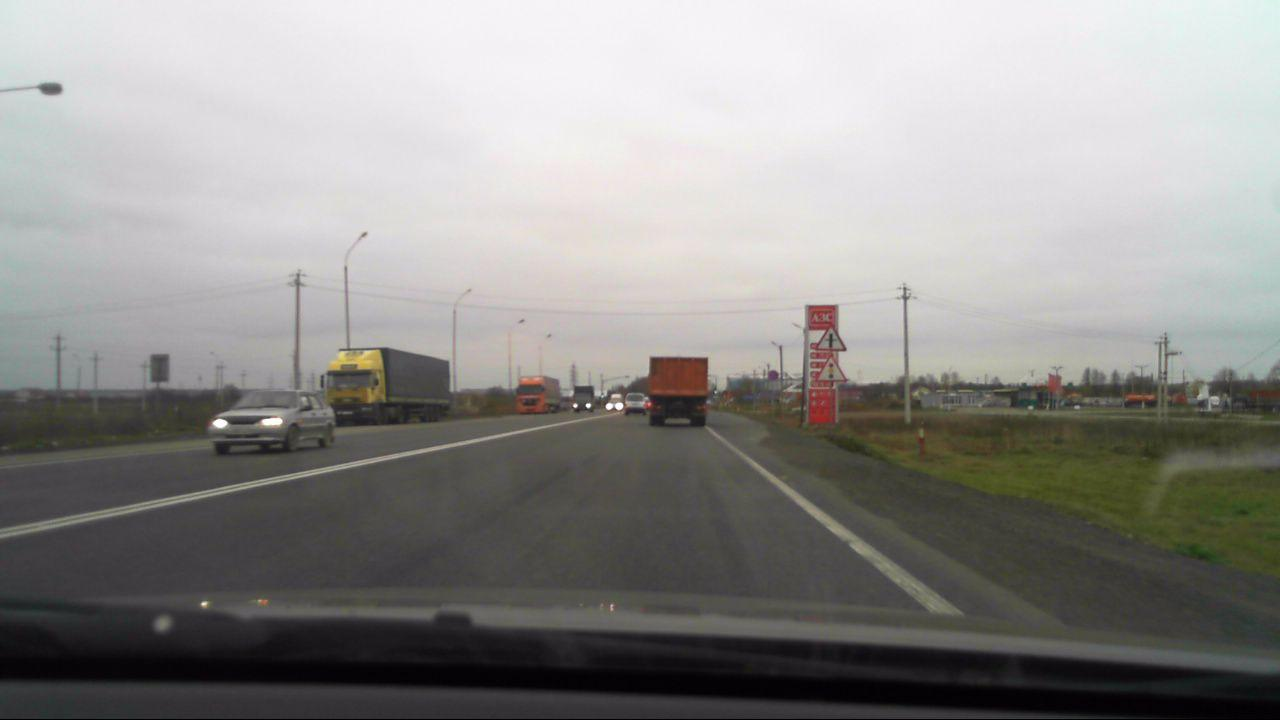1_8: (818, 357, 846, 383)
2_3_1: (814, 324, 848, 352)
